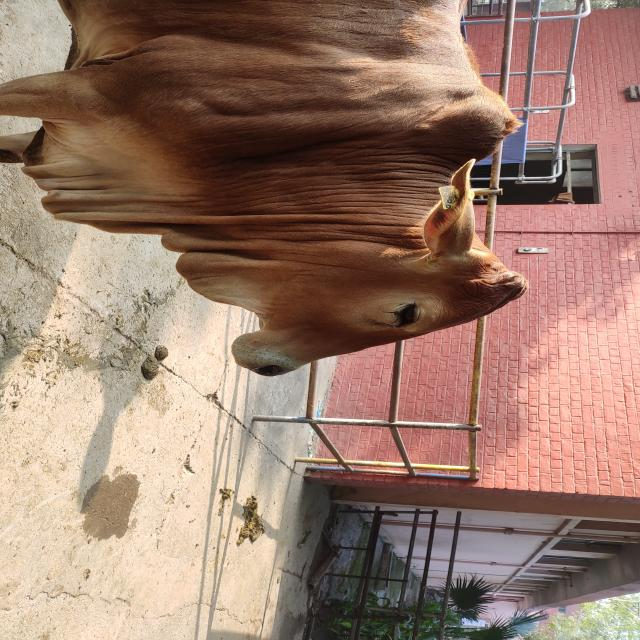cow: (1, 0, 530, 378)
hump: (441, 66, 522, 183)
